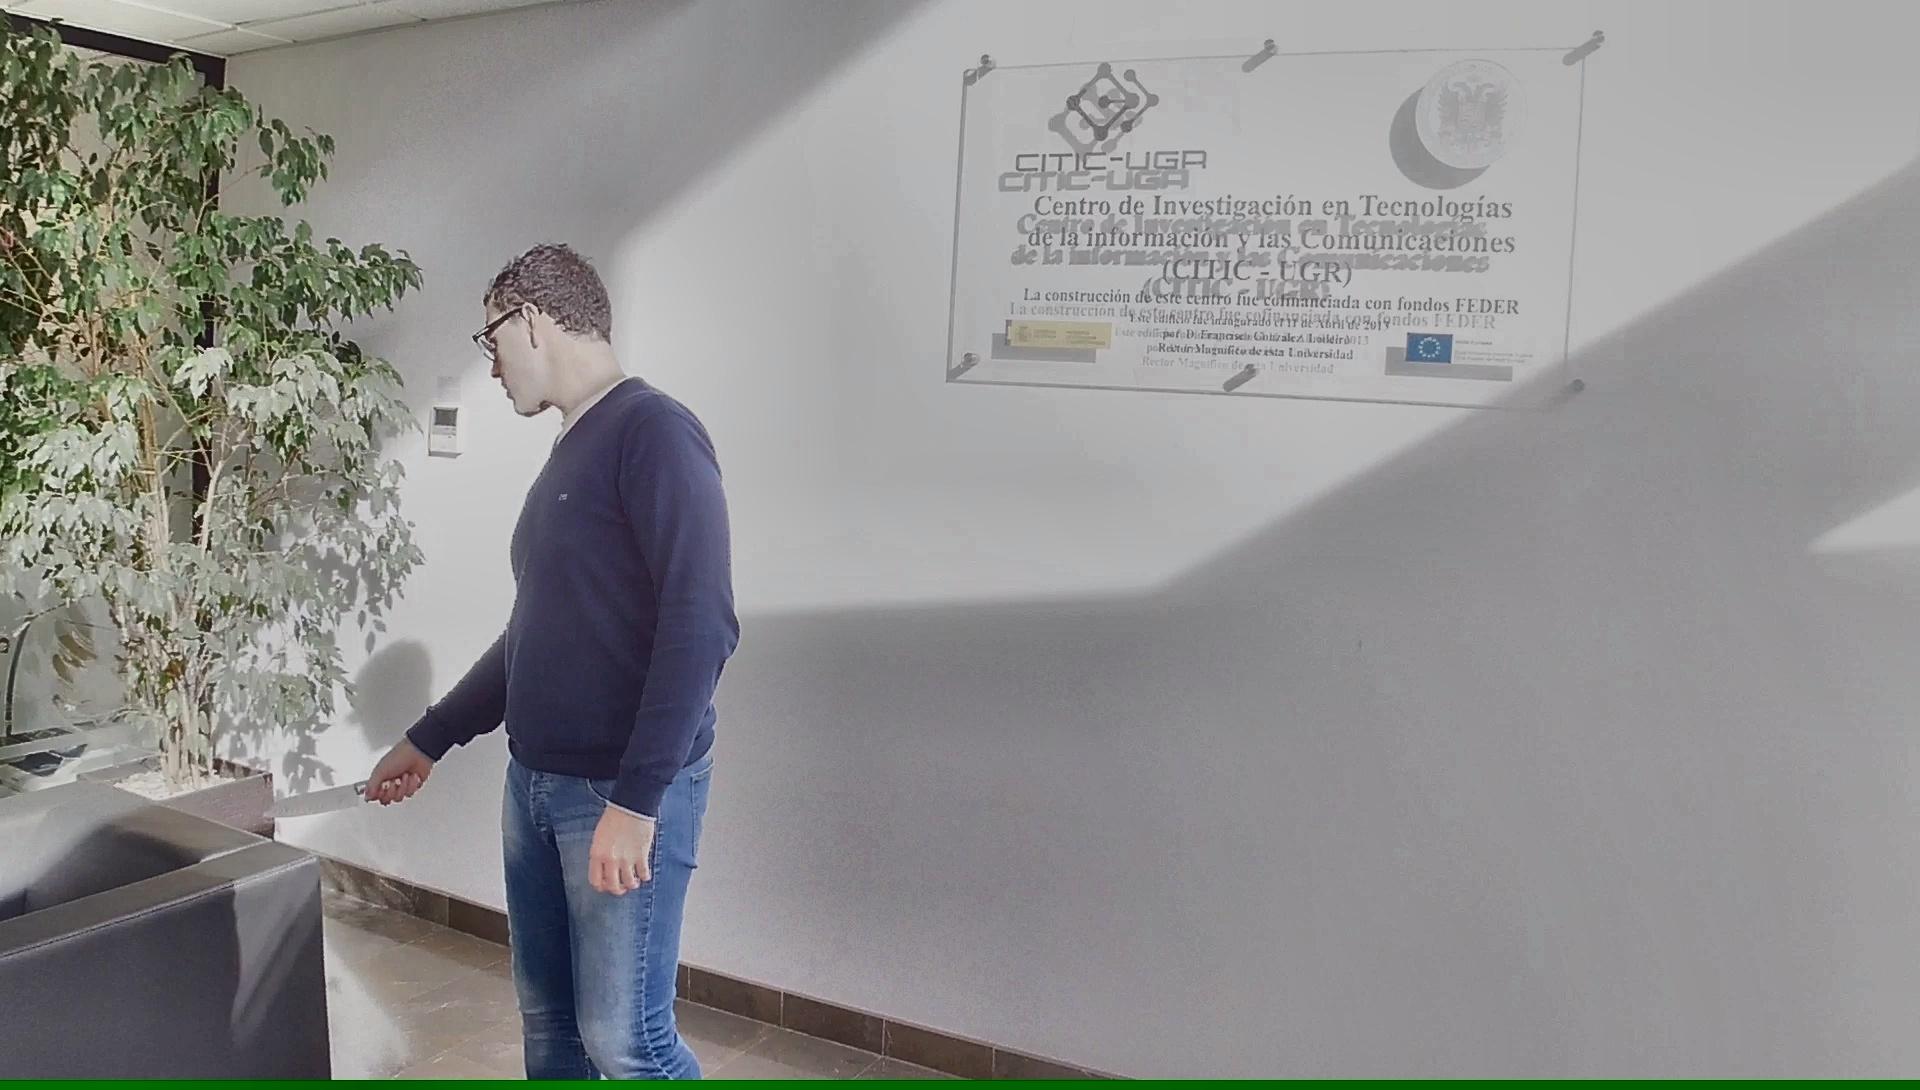knife: (253, 764, 426, 829)
